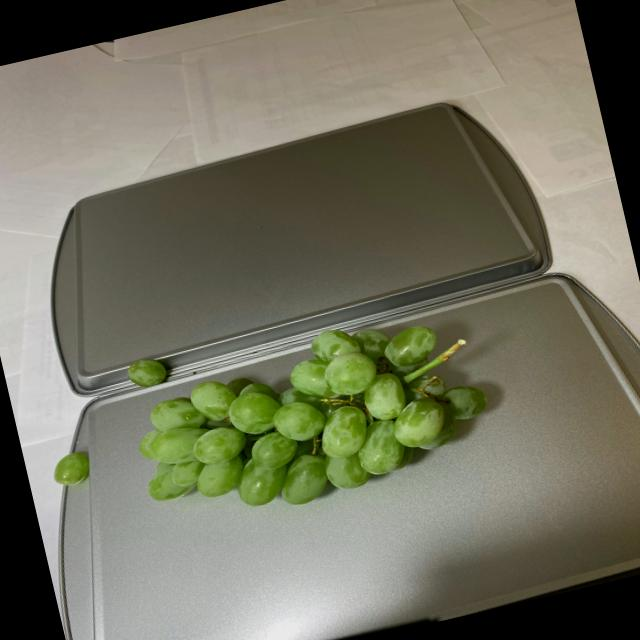grapes: (112, 282, 511, 527), (42, 446, 98, 493)
